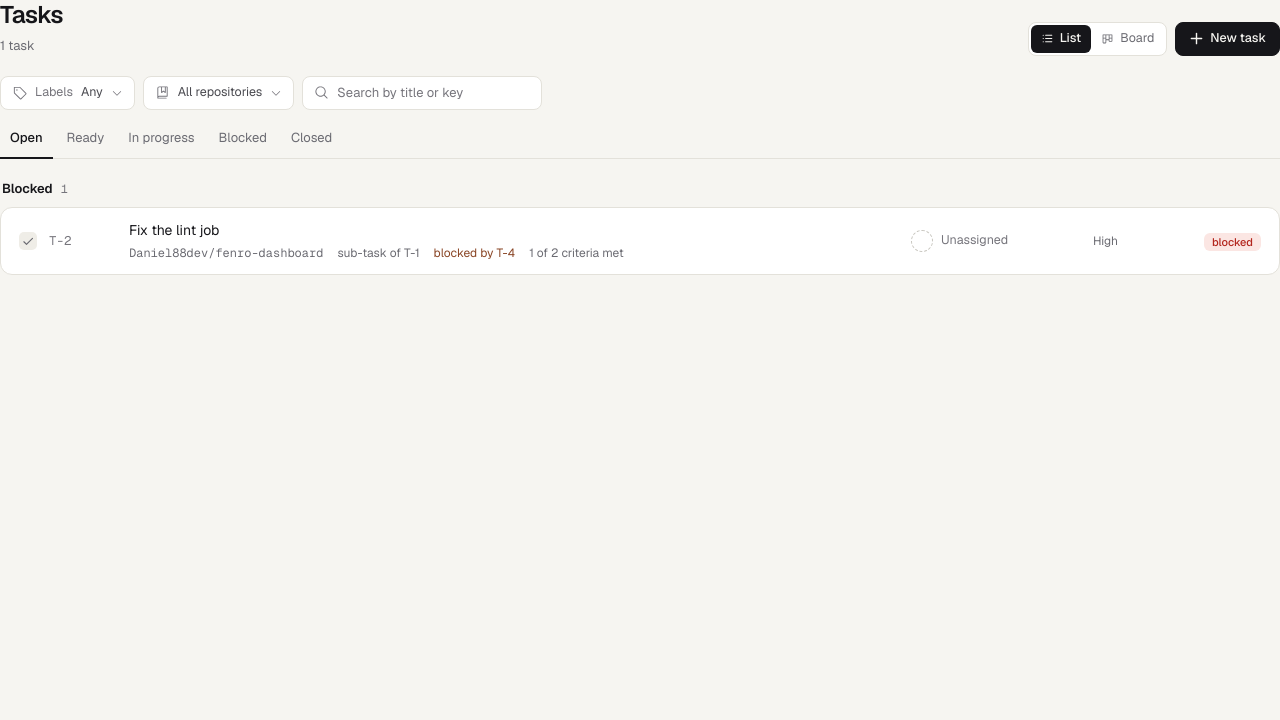
Test: TaskList › finds a label by typing
Click the button with aria-label "Labels: any".
click(67, 92)  # box [0,76,135,110]
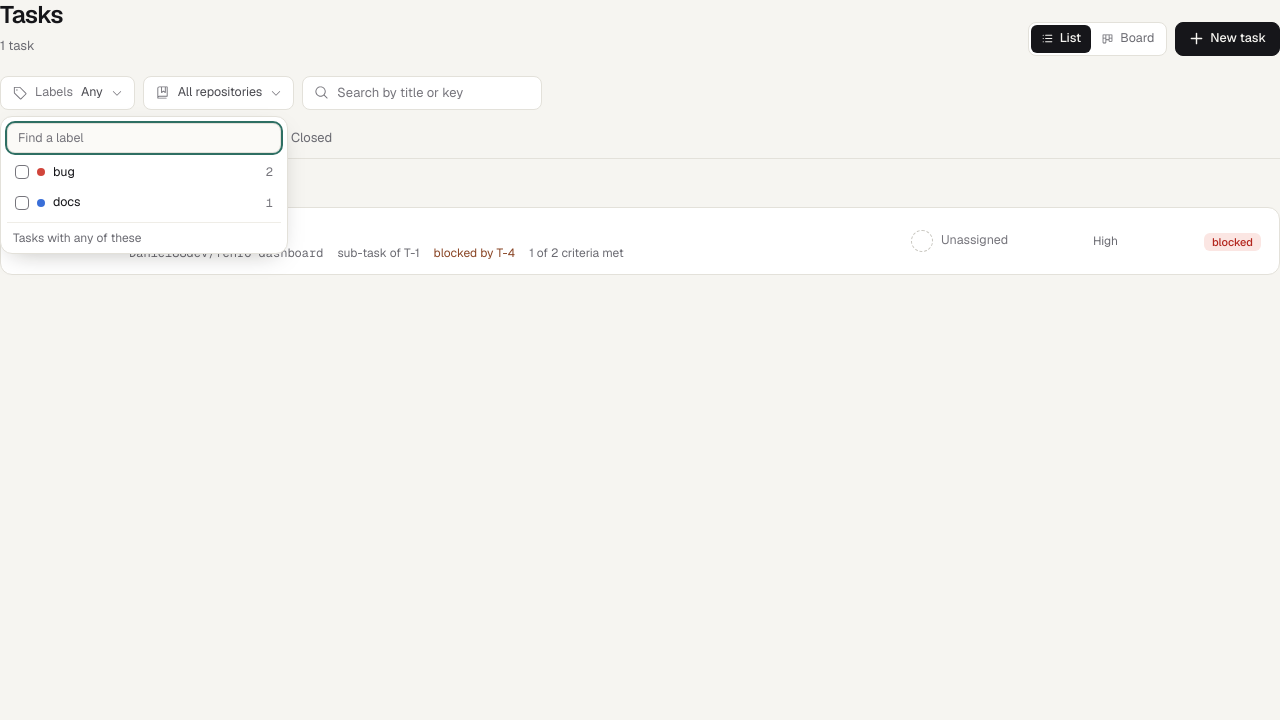
Type "do" into the field labelled "Find a label".
click(144, 138); type("do")  # box [7,122,281,152]
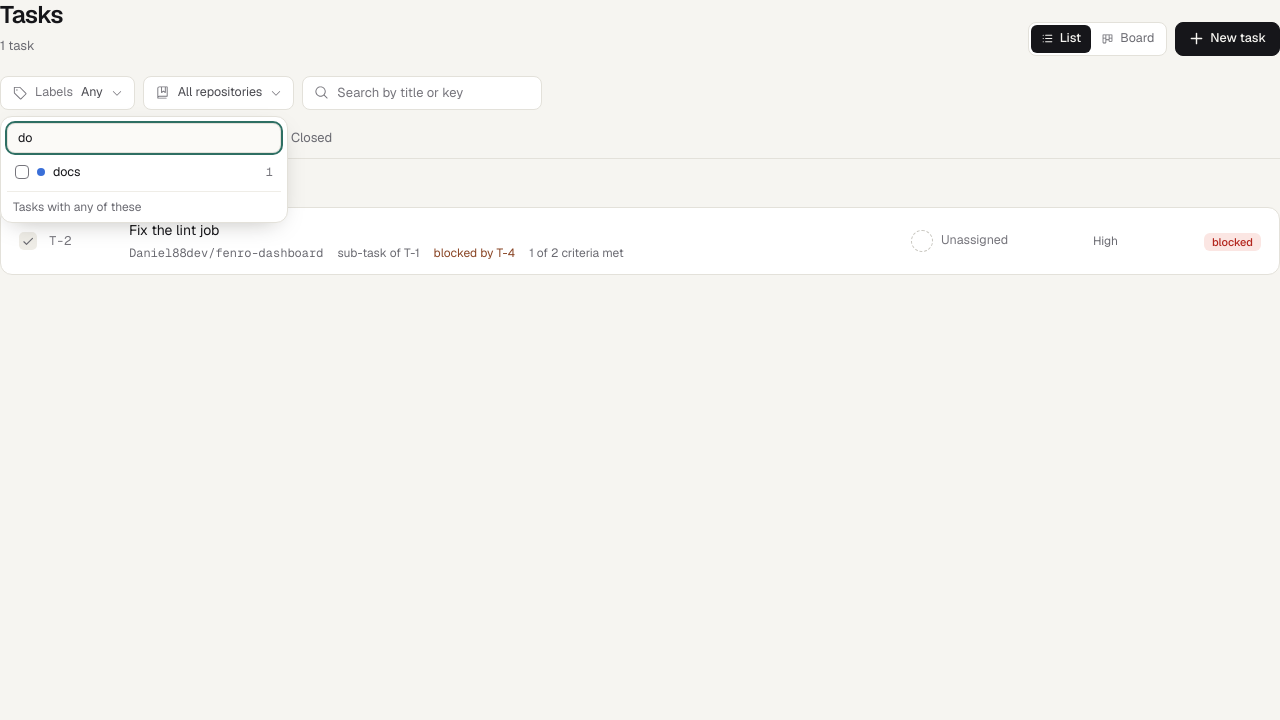
Check: the number of menu items is 1, box [7,156,281,187]
